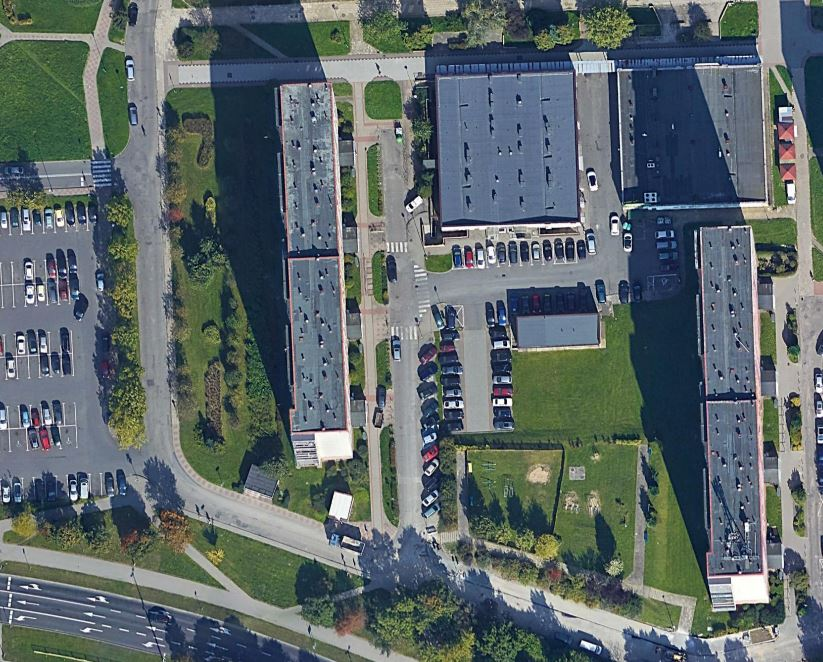block of flats: (684, 218, 778, 616), (271, 68, 358, 474)
garage: (511, 306, 604, 355)
shopping_center: (427, 57, 583, 239), (605, 56, 777, 215)
